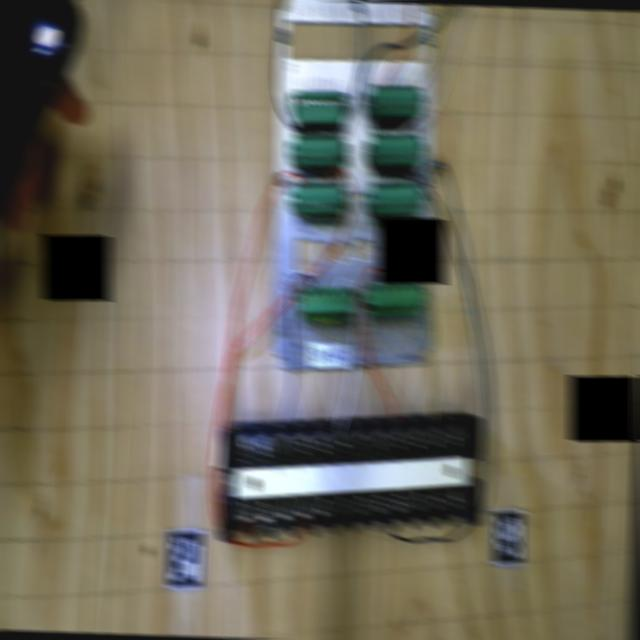Flathead_Block: (214, 420, 487, 541)
Terminal_1: (299, 284, 355, 321), (368, 281, 424, 316)
Terminal_2: (292, 132, 345, 166), (371, 181, 423, 214), (371, 132, 423, 165), (370, 84, 422, 116), (292, 181, 345, 212)
